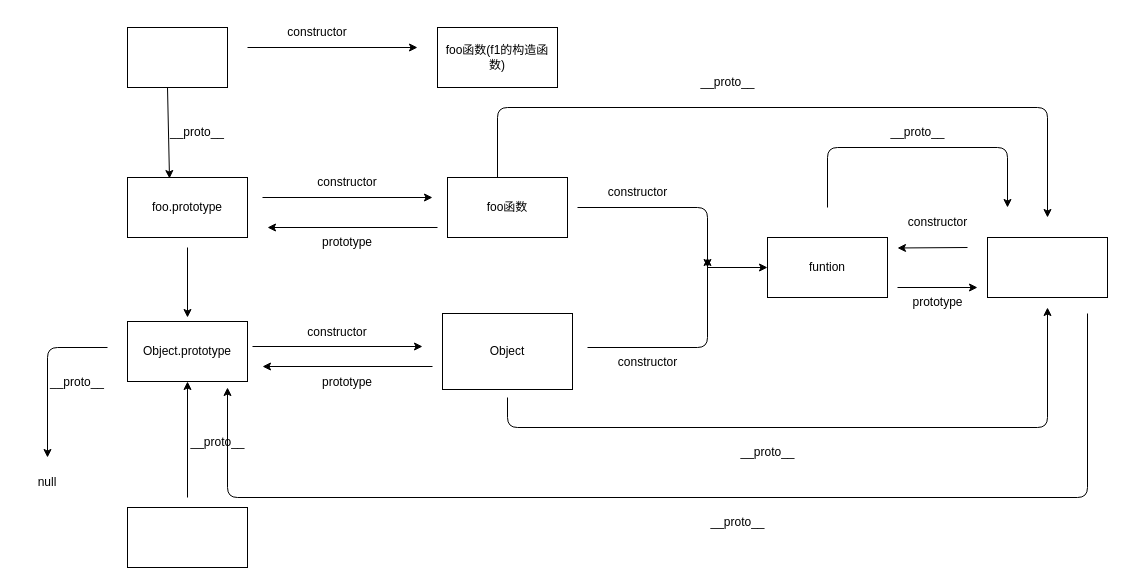
This 1125x585 diagram has some shape labels left out. The centre of each missing label's shape, as x and y in pixels:
f1(新创建的对象): [177,57]
funtion.prototype: [1047,267]
o1: [187,537]
